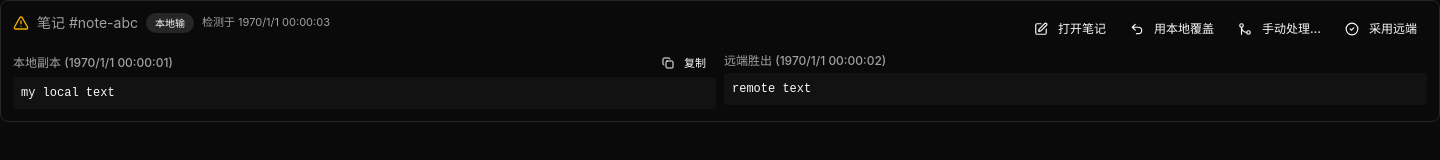
it: ConflictRow copy button (Feature A — 复制输方内容) › copies the local (losing) content and flips to 已复制
Click the button "复制" at (684, 63), box [652, 53, 716, 73]
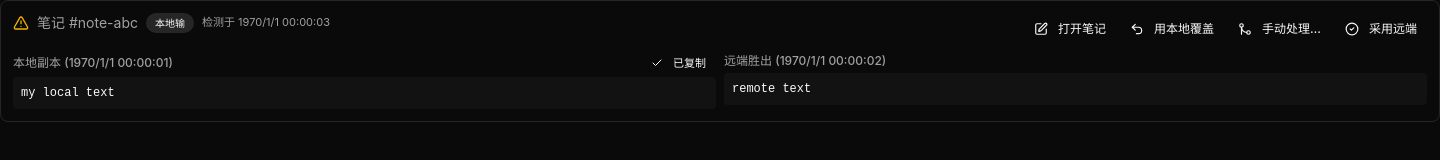
Check: the button "已复制" is shown, box [641, 53, 716, 73]
